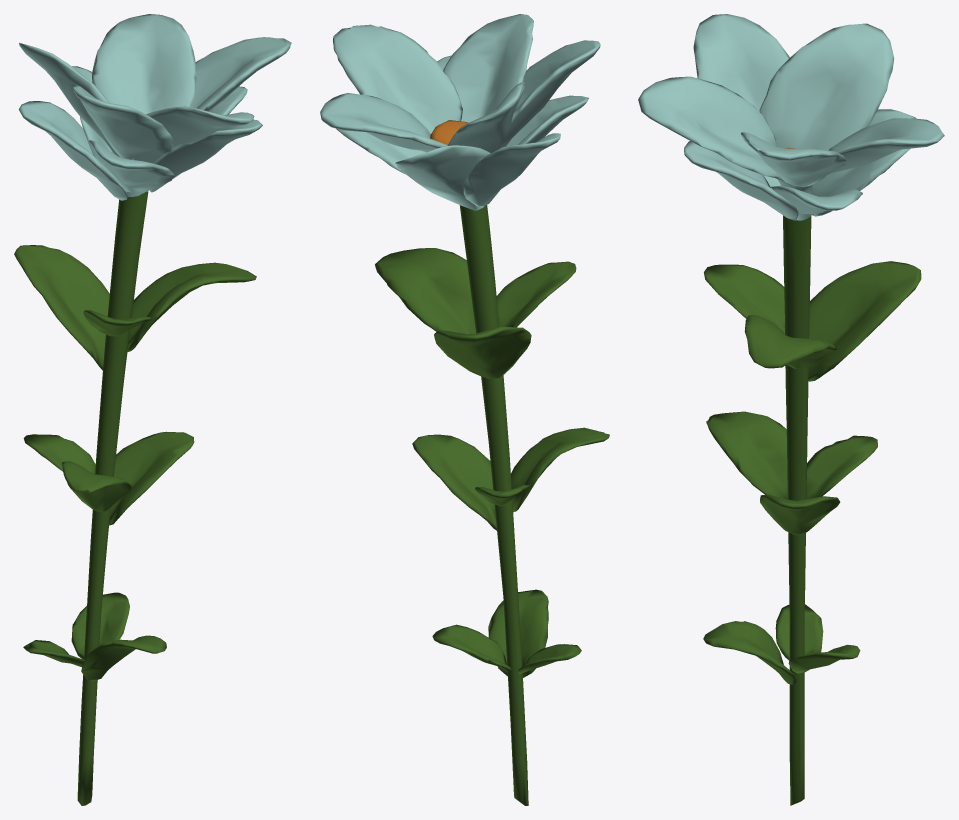
The model's file is kwiatek_niebieski.fbx.
The picture shows the model from 3 angles, left to right: view 1: azimuth 30°, elevation 25°; view 2: azimuth 150°, elevation 25°; view 3: azimuth 270°, elevation 25°; orthographic projection. The views are drawn at different scales.
Parts seen in each view (by area): view 1: Merged_PM3D_Sphere3D2_9.003; view 2: Merged_PM3D_Sphere3D2_9.003; view 3: Merged_PM3D_Sphere3D2_9.003.
Part boxes in pixels (x1,y1,x2,y2): Merged_PM3D_Sphere3D2_9.003: (14, 14, 291, 805); Merged_PM3D_Sphere3D2_9.003: (320, 14, 609, 805); Merged_PM3D_Sphere3D2_9.003: (638, 14, 944, 805).
Bounding box in the file's own units: 70.32 × 197 × 70.88.
